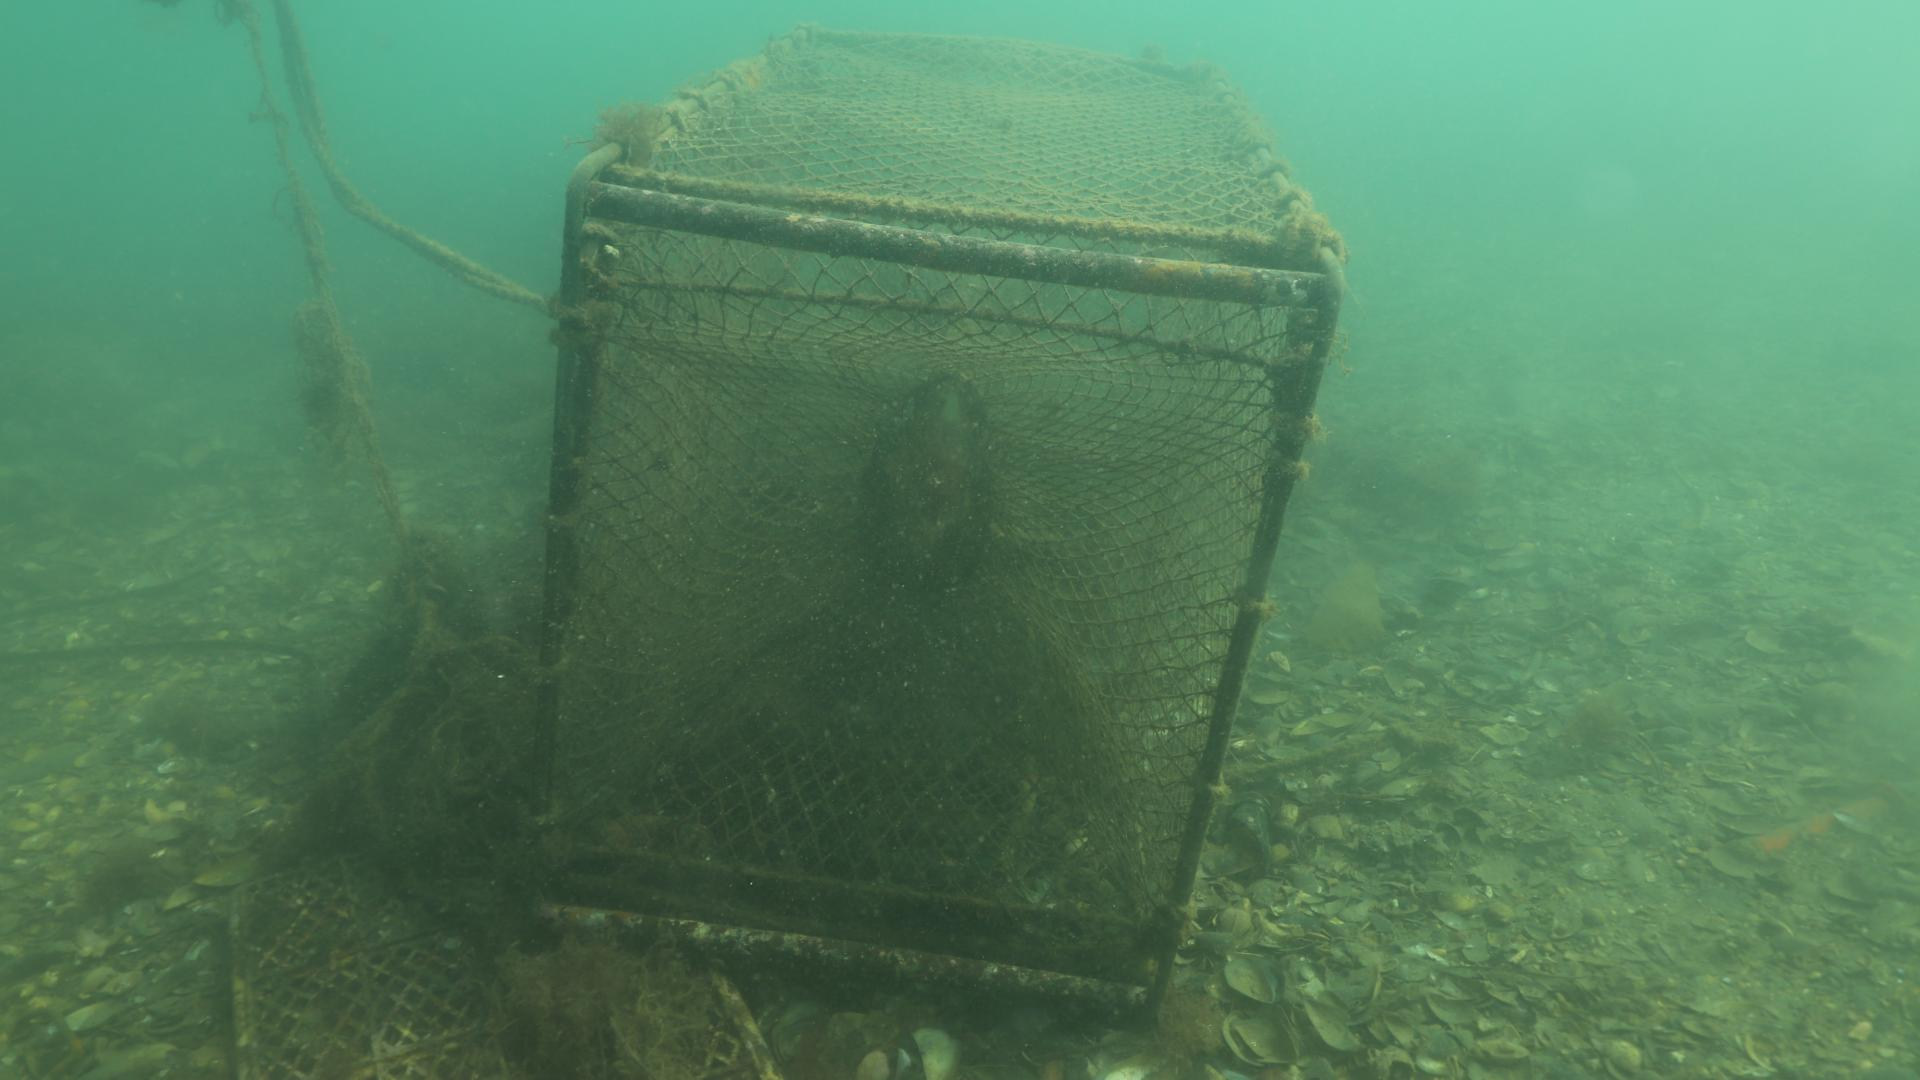bundle of ropes: (276, 0, 549, 313)
rectangular fish trap: (522, 18, 1348, 1011)
